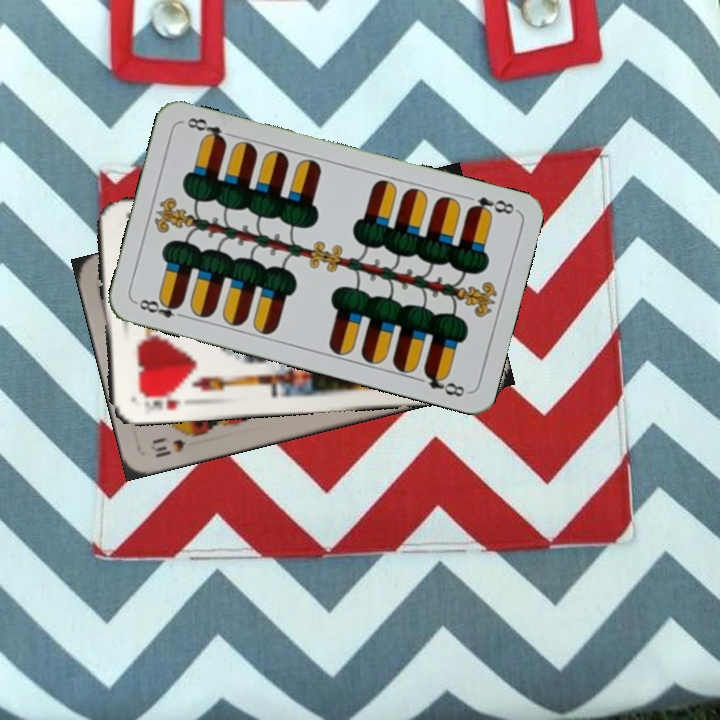E8: (132, 294, 190, 321), (463, 192, 519, 219)
HK: (135, 387, 184, 416)
S10: (146, 429, 202, 461)
